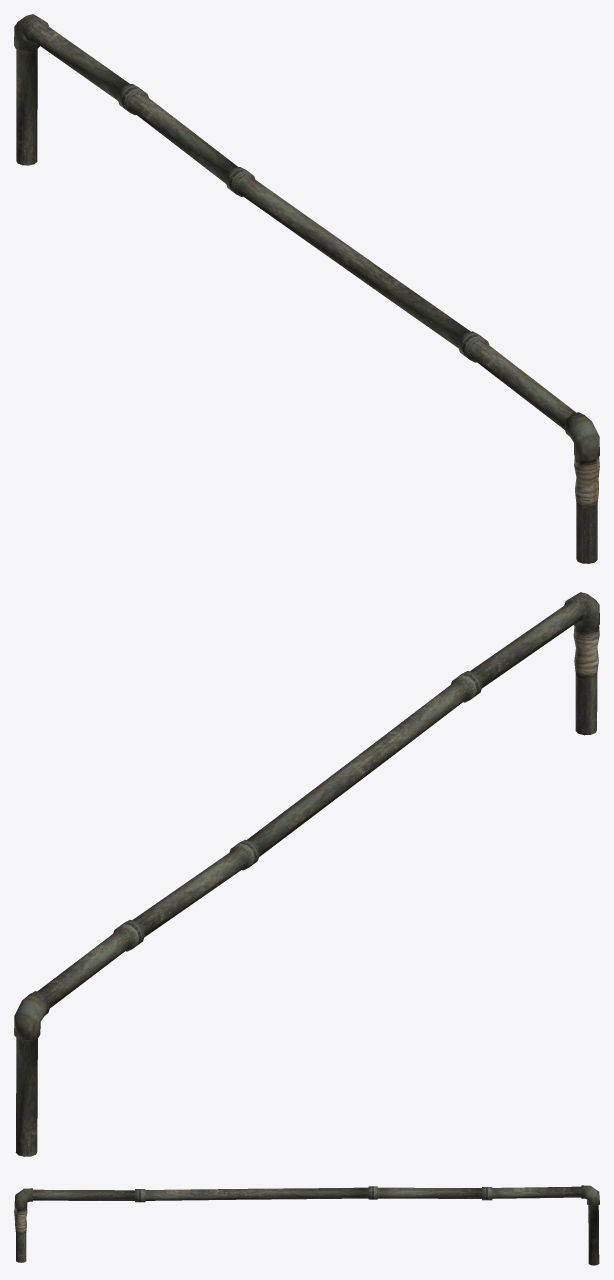
Rendered from S_Build_West032.FBX.
3 views of the same model, one above another, from view 1: azimuth 30°, elevation 25°; view 2: azimuth 150°, elevation 25°; view 3: azimuth 270°, elevation 25° (orthographic). The views are drawn at different scales.
Parts seen in each view (by area): view 1: S_Build_West032; view 2: S_Build_West032; view 3: S_Build_West032.
Part boxes in pixels (<box>): S_Build_West032: <box>14,14,599,563</box>; S_Build_West032: <box>14,592,599,1156</box>; S_Build_West032: <box>14,1185,599,1265</box>.
Size of the model in its own units: 33.64 by 1101 by 159.
